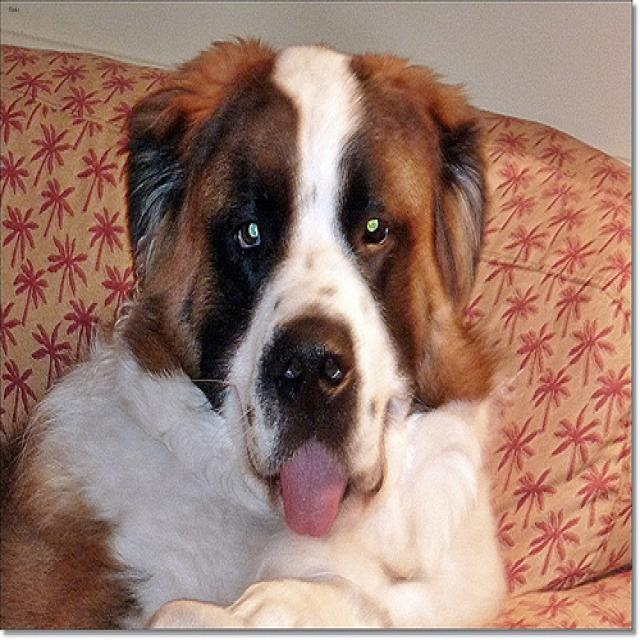dog-saint_bernard: (1, 27, 517, 637)
